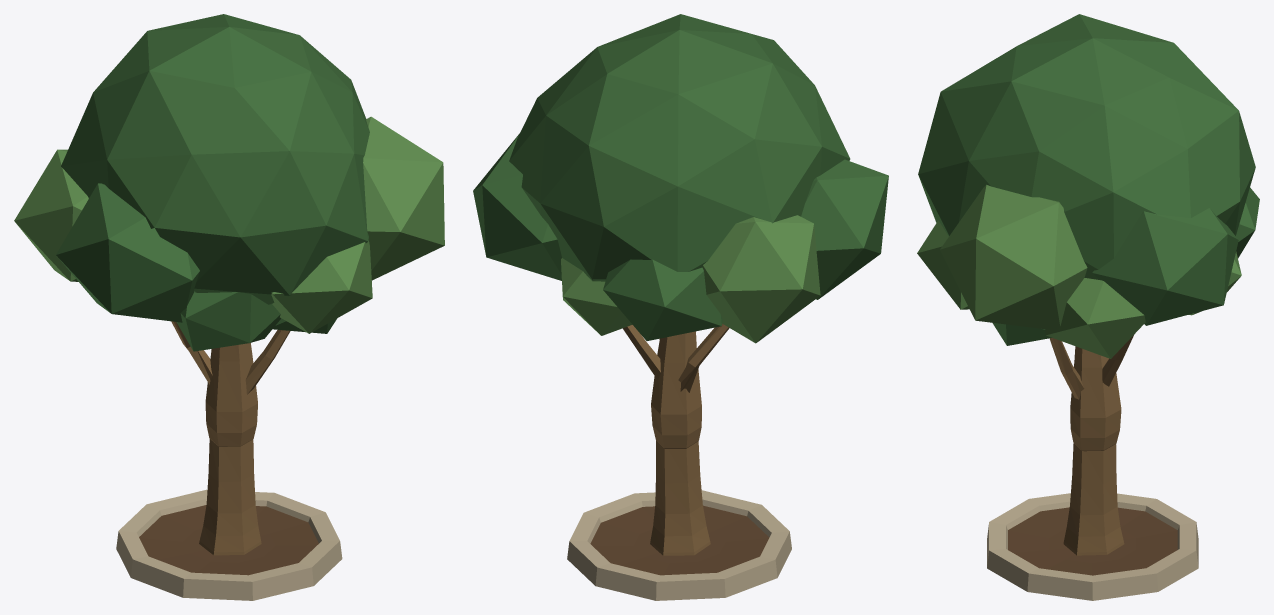
File: ornamental-front-yard-tree-c6781a.glb
The picture shows the model from 3 angles, left to right: view 1: azimuth 30°, elevation 25°; view 2: azimuth 150°, elevation 25°; view 3: azimuth 270°, elevation 25°; orthographic projection. The views are drawn at different scales.
Visible parts, largest first — view 1: crown-mesh, base-mesh; view 2: crown-mesh, base-mesh; view 3: crown-mesh, base-mesh.
Boxes of the visible parts, x1,y1,x2,y2 form: crown-mesh: (14, 14, 444, 446); base-mesh: (116, 439, 342, 600); crown-mesh: (473, 14, 888, 448); base-mesh: (567, 440, 791, 600); crown-mesh: (917, 14, 1259, 451); base-mesh: (987, 443, 1198, 600).
Size of the model in its own units: 3.12 by 4.5 by 2.71.
